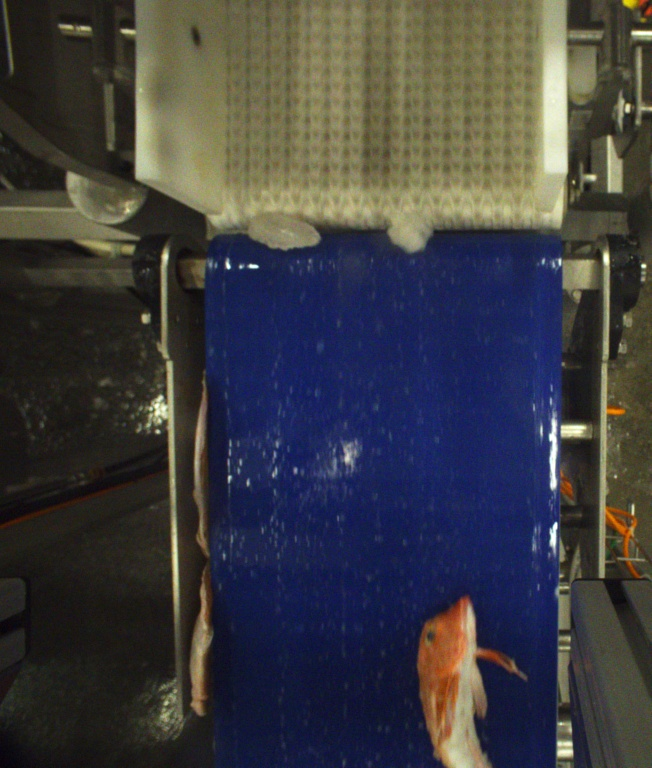GUU: (412, 595, 527, 768)
